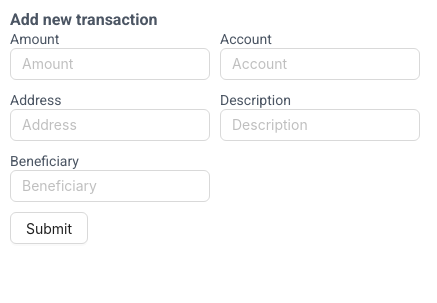
Form Component › shows error when beneficiary contains invalid characters
In the field labelled "Beneficiary": (110, 186) [10, 170, 210, 202], type "Invalid@Beneficiary!"
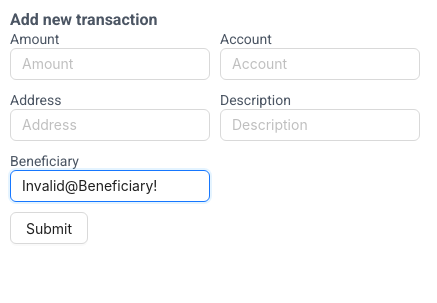
Click the button "Submit": click(49, 228) [10, 212, 88, 244]
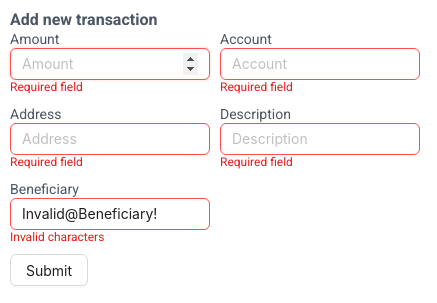
Now the text "Invalid characters" is shown, box [10, 230, 104, 244]
